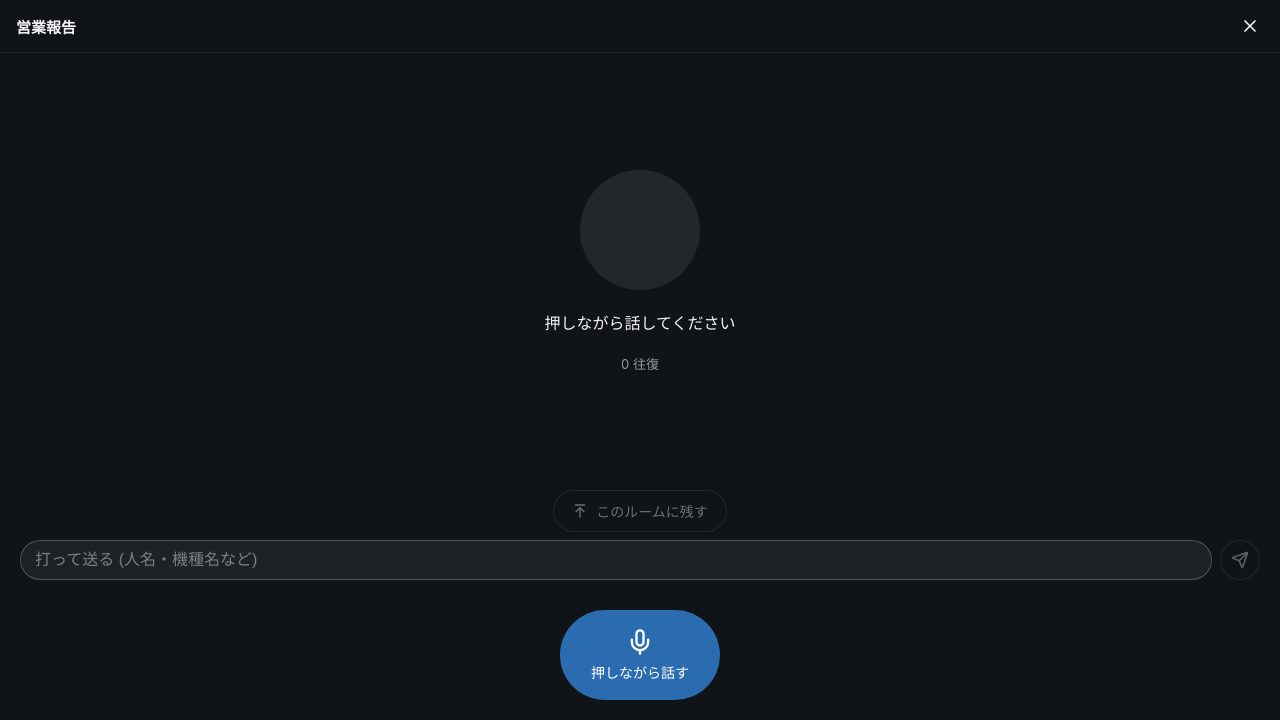
Test: VoiceChatView — 声が送られなかったとき (#421) › ★★ 送れなかったら画面に出す (無言で待たせない — §7-2)
The width and height of the screenshot is (1280, 720).
Expected: the message reads "押しながら話してください", [544,313,736,333]
Step 1. Press the mouse on the button "押しながら話す" → (640, 655), box [560,610,720,700]
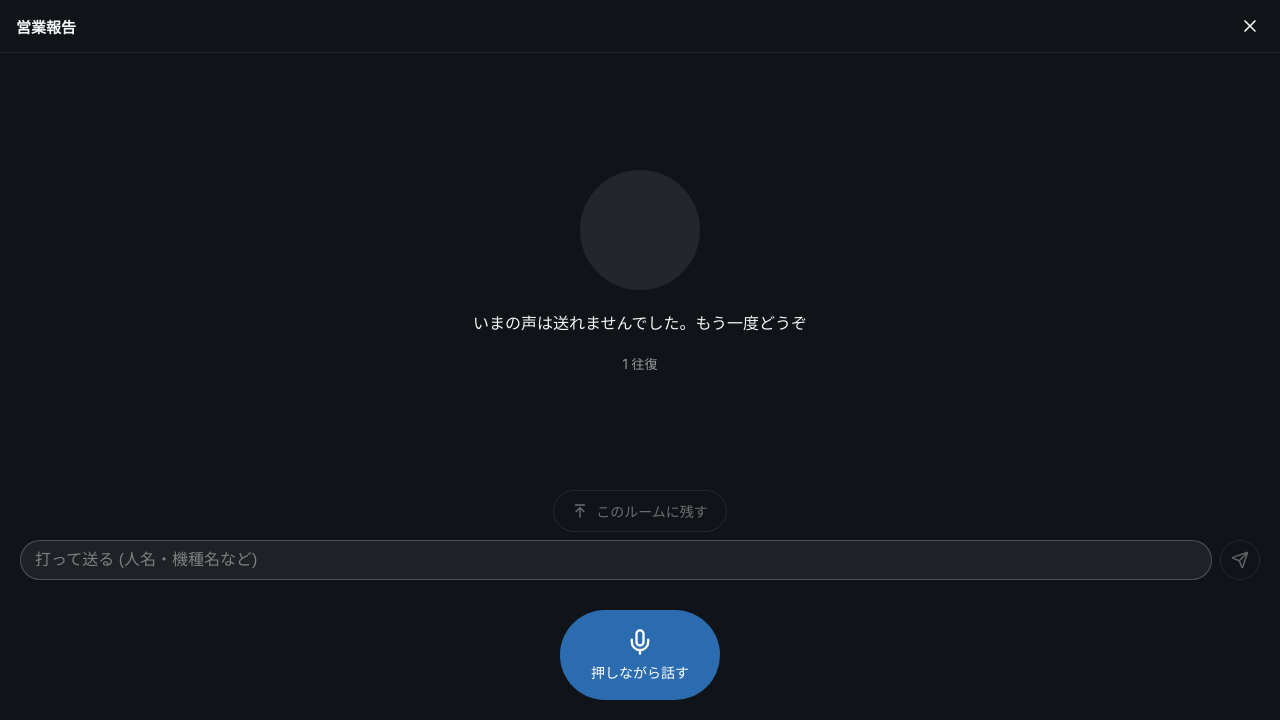
Expected: the message shows "送れませんでした", [473,313,807,333]
